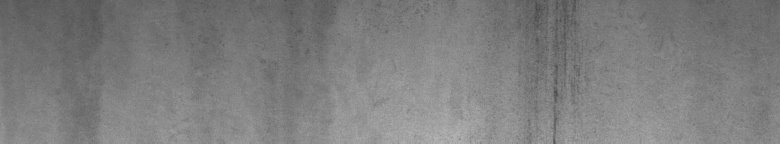ka: (533, 4, 584, 136)
